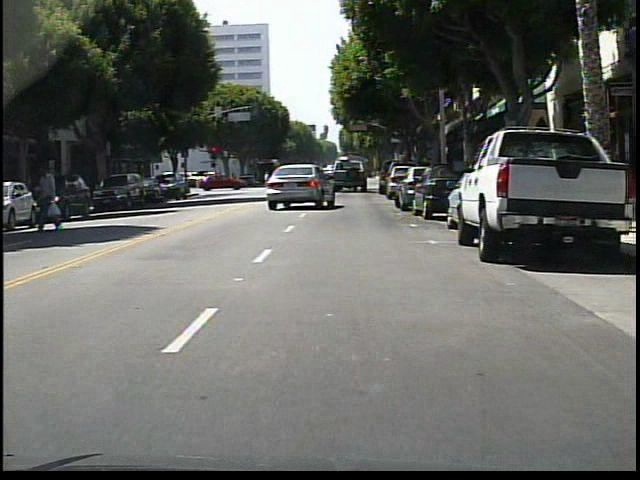person: (39, 162, 63, 235), (287, 169, 298, 192), (309, 167, 316, 191), (263, 171, 270, 184)
